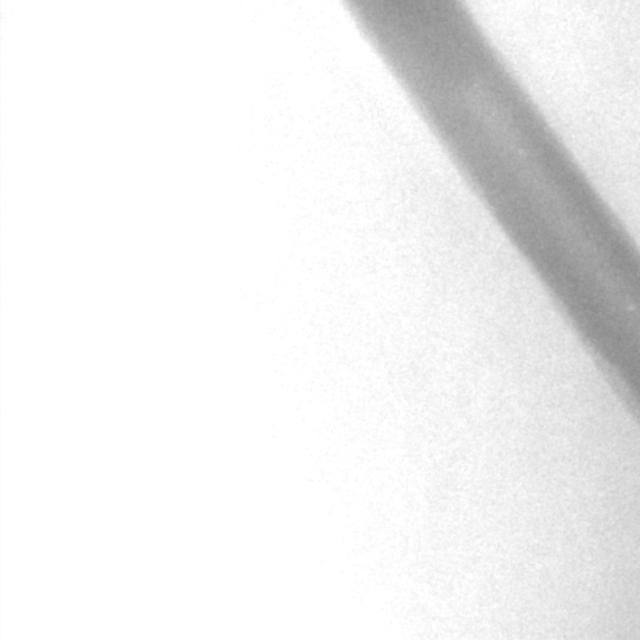air hole: (516, 140, 530, 159), (625, 296, 638, 314)
